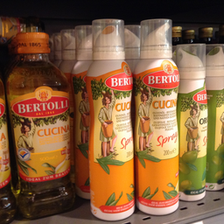oil: (9, 32, 76, 219), (88, 19, 137, 222), (134, 18, 182, 216)
